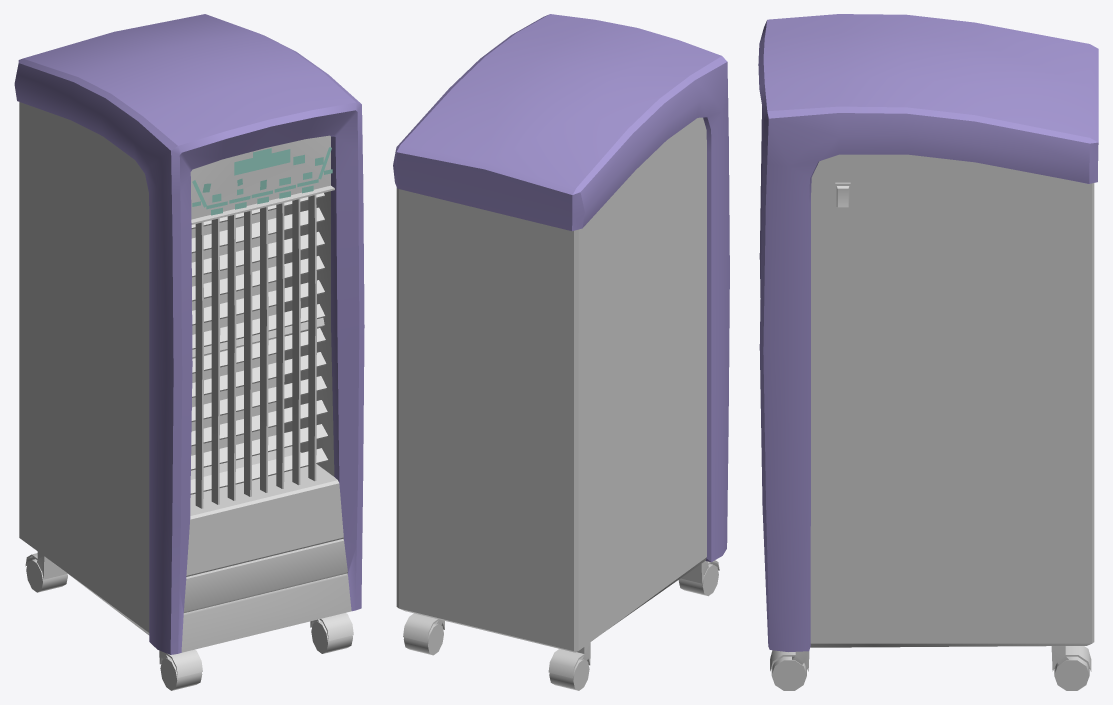
File: MIDEAACH120B2R.FBX
The picture shows the model from 3 angles, left to right: view 1: azimuth 30°, elevation 25°; view 2: azimuth 150°, elevation 25°; view 3: azimuth 270°, elevation 25°; orthographic projection. The views are drawn at different scales.
Visible parts, largest first — view 1: MIDEAACH120B2R; view 2: MIDEAACH120B2R; view 3: MIDEAACH120B2R.
Boxes of the visible parts, x1,y1,x2,y2 form: MIDEAACH120B2R: (14, 14, 364, 690); MIDEAACH120B2R: (393, 14, 729, 690); MIDEAACH120B2R: (758, 14, 1098, 690).
Bounding box in the file's own units: 26 × 36.4 × 70.
